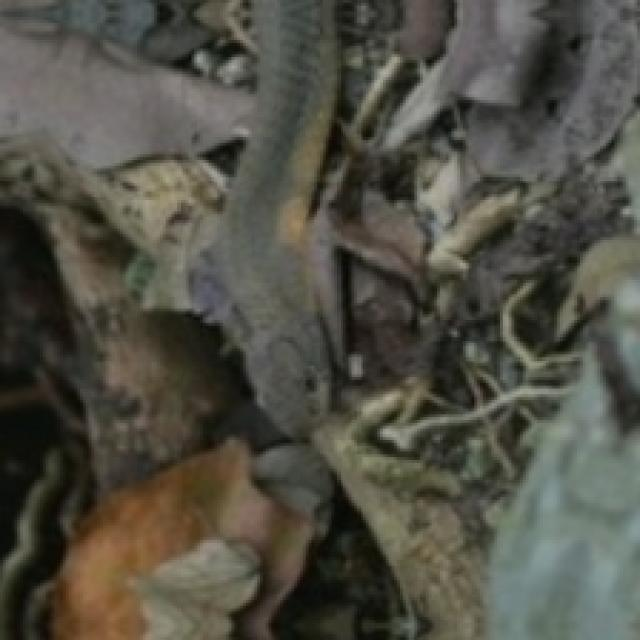king cobra: (0, 0, 637, 637), (140, 540, 257, 637)
